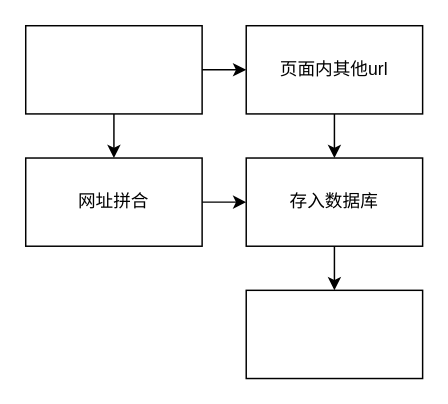
Image size: 448x404. Some labels were removed from this diagram. Here are the shapes that lost their labels. From the top down, the centre of each, then its label:
At pixel 113 69: "涉黄网站url".
At pixel 334 334: "等待下一步识别".
